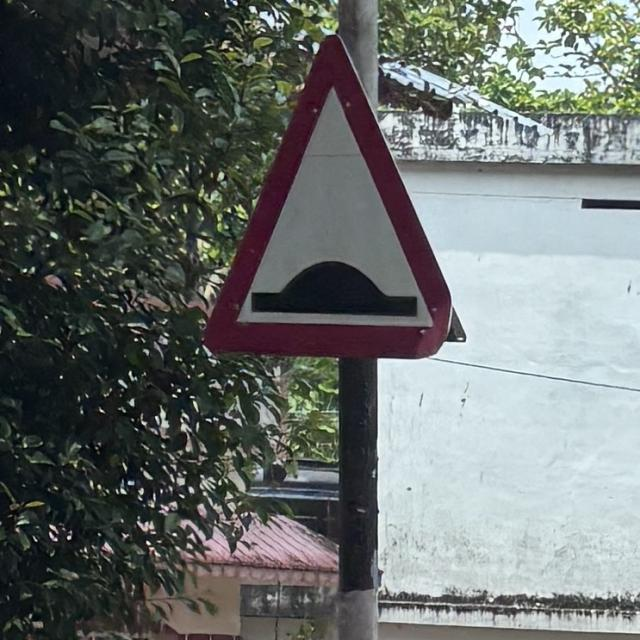HUMP_OR_ROUGH_ROAD: (198, 31, 470, 362)
